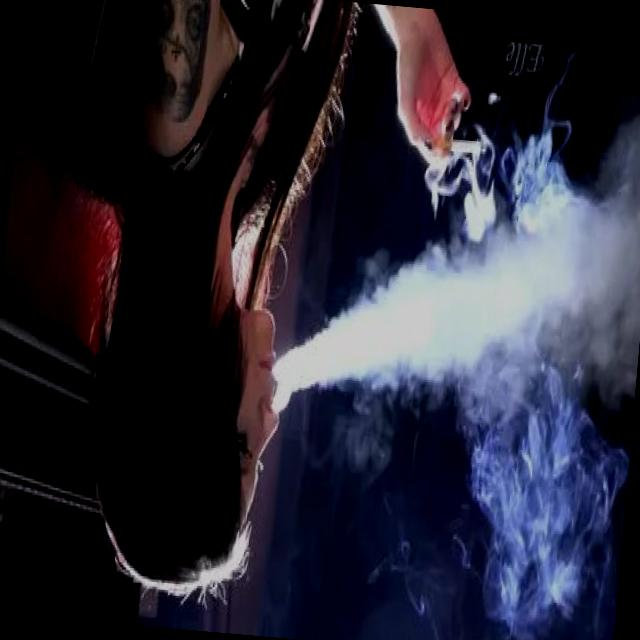smoke: (426, 127, 482, 160)
